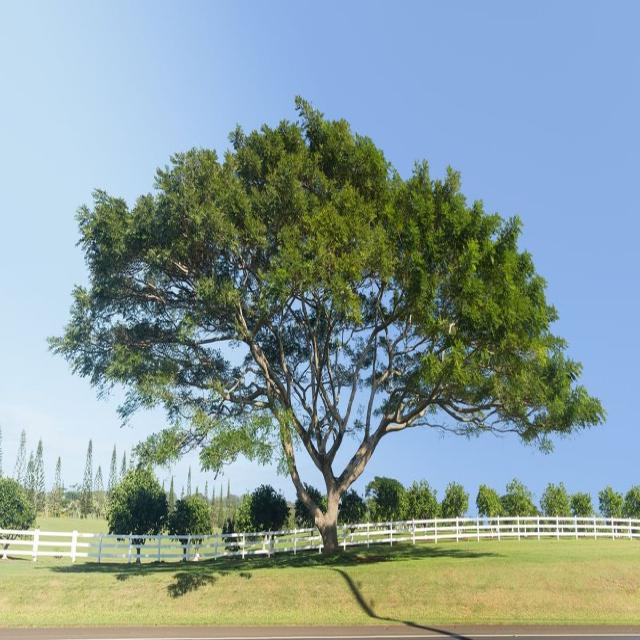Acacia: (68, 86, 610, 509)
